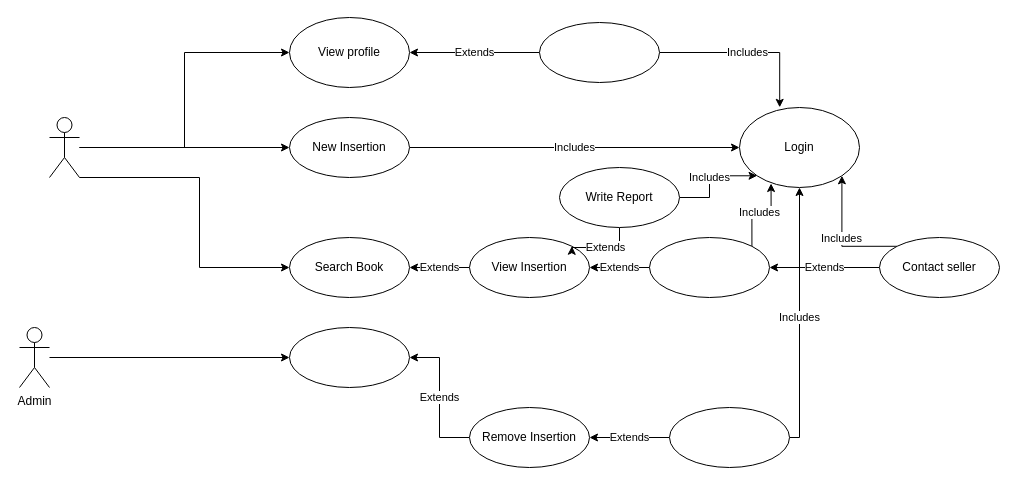
The diagram is 1017 pixels wide and 485 high, and some of its shapes have lost their labels. The shapes that lost their labels are listed below. From the top down, each one's centre as x and y in pixels, then its label:
At (x=599, y=52): "View messages".
At (x=64, y=147): "User".
At (x=709, y=267): "Buy a book".
At (x=349, y=357): "Review Report".
At (x=729, y=437): "Issue a ban".
